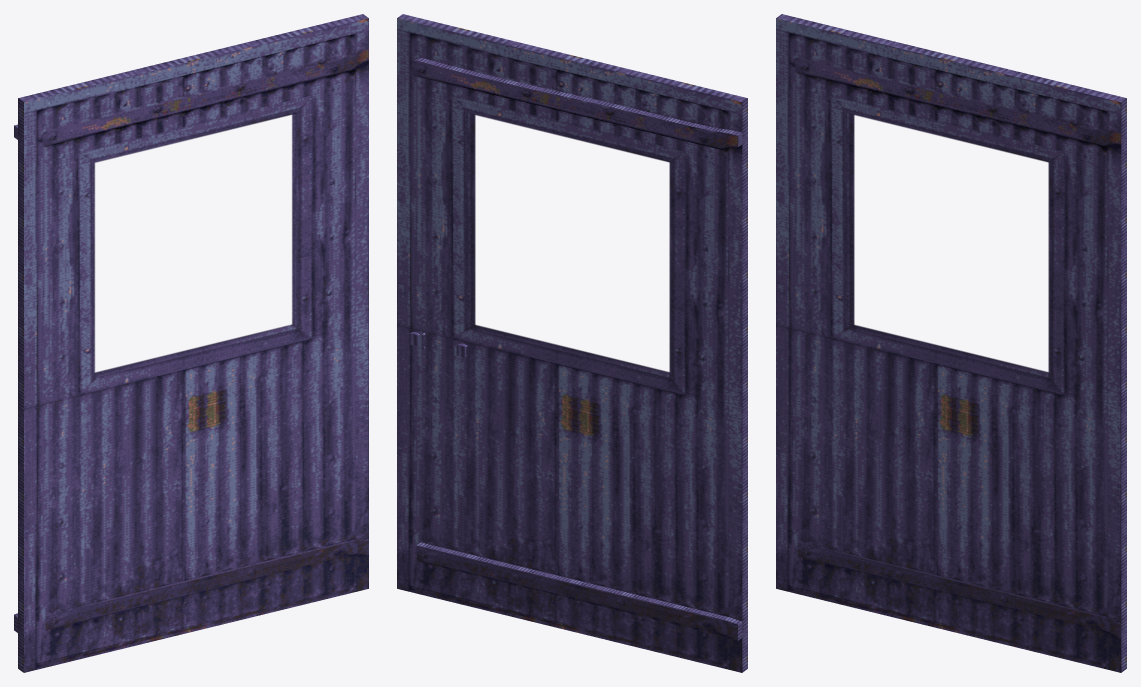
The model's file is door_13.glb.
3 renders of one model, left to right at view 1: azimuth 30°, elevation 25°; view 2: azimuth 150°, elevation 25°; view 3: azimuth 330°, elevation 25°, orthographic.
Parts seen in each view (by area): view 1: polySurface34.001; view 2: polySurface34.001; view 3: polySurface34.001.
Part boxes in pixels (left/top/right/bottom): polySurface34.001: left=14, top=14, right=368, bottom=672; polySurface34.001: left=397, top=14, right=747, bottom=672; polySurface34.001: left=776, top=14, right=1126, bottom=672.
Size of the model in its own units: 1.33 by 2.1 by 0.0655.
1 material, 1 textured.
